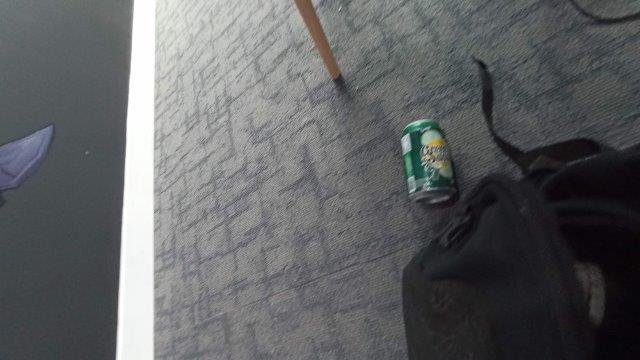kaleng: (400, 120, 455, 203)
